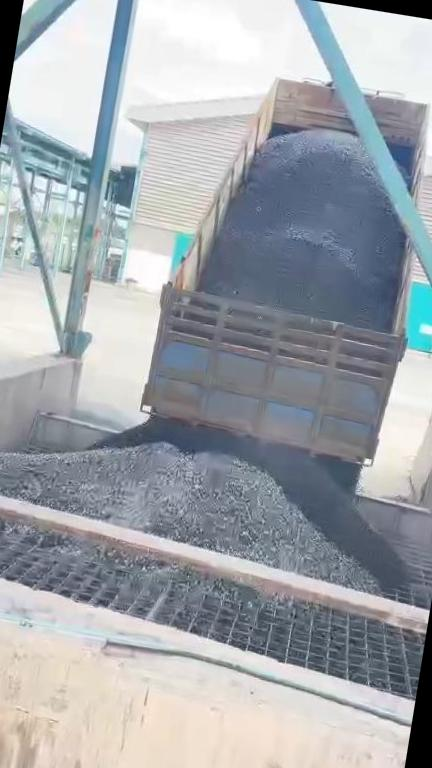gravel: (0, 443, 378, 591), (98, 417, 408, 596), (199, 130, 404, 331), (0, 516, 292, 608)
